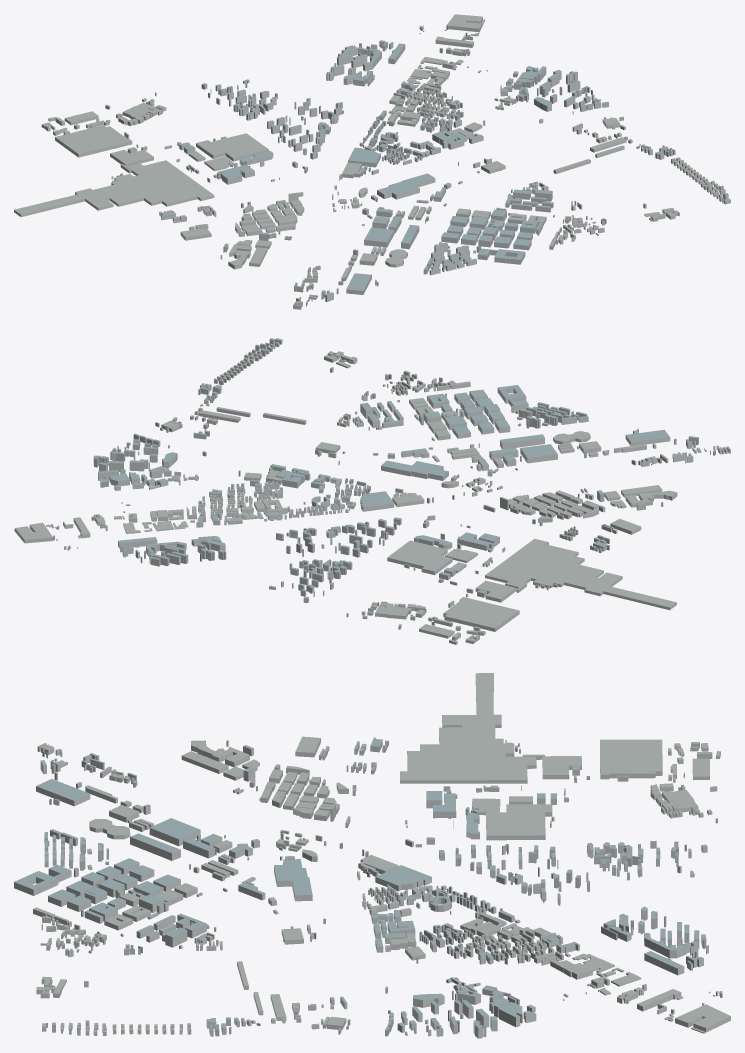
File: far.glb
3 renders of one model, top to bottom at view 1: azimuth 30°, elevation 25°; view 2: azimuth 150°, elevation 25°; view 3: azimuth 270°, elevation 25°, orthographic. The views are drawn at different scales.
Size of the model in its own units: 2606 by 42.16 by 2180.
